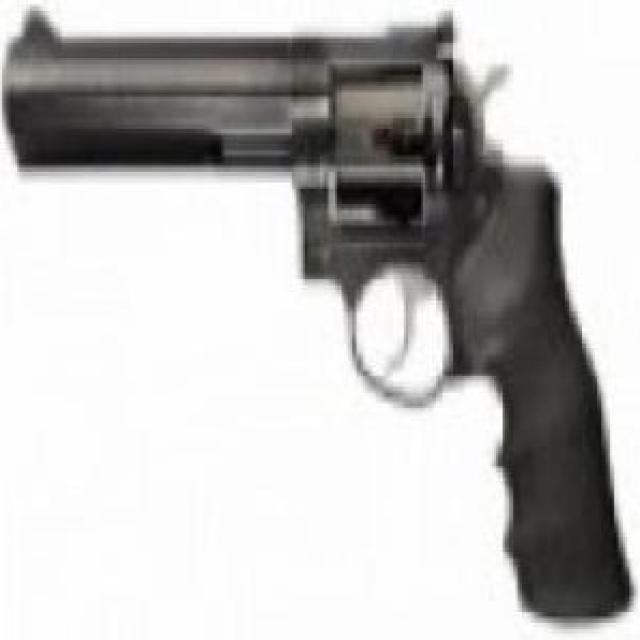pistol: (6, 7, 623, 630)
